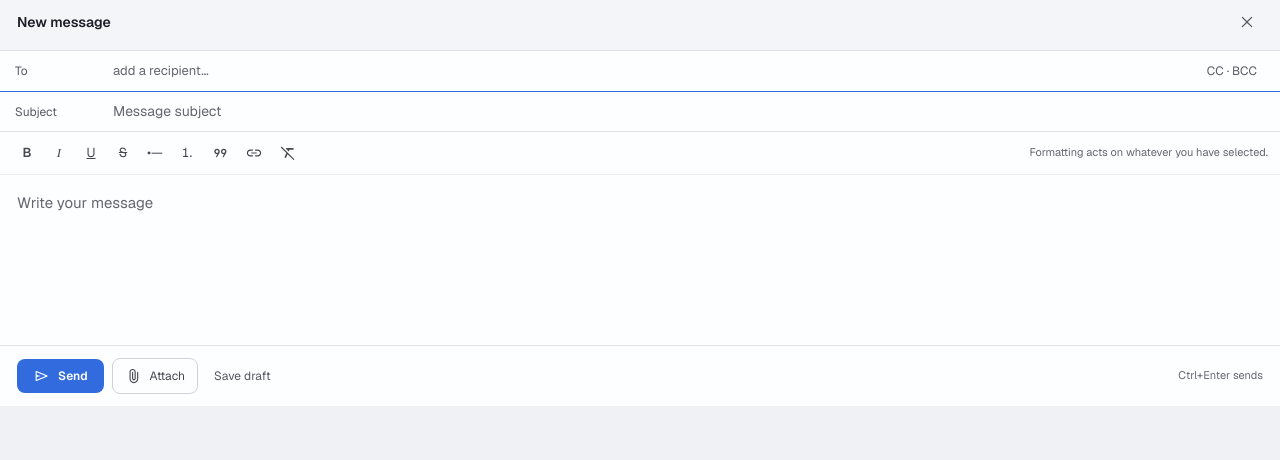
Scenario: Composer, a message of its own › says which of the four failures a save met, rather than that something went wrong
Click the button "Save draft". click: (242, 376)
box: [206,359,279,393]
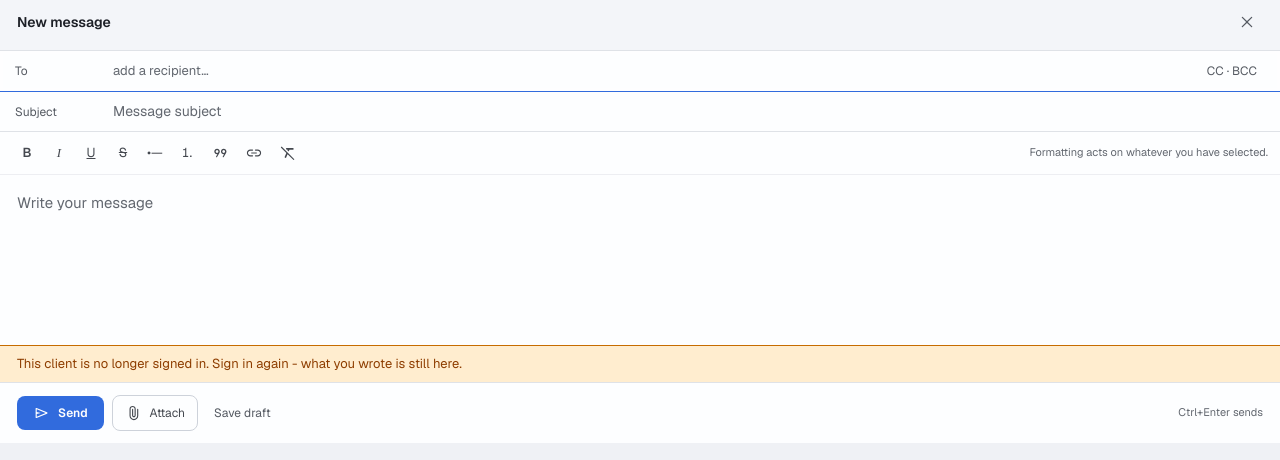
expect the text "no longer signed in" is shown: met, box [17,355,462,372]
